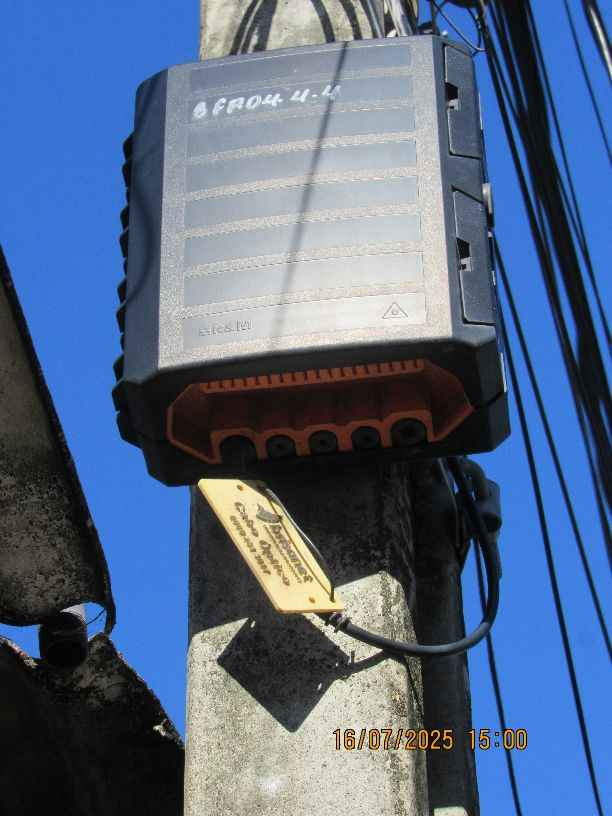caixa_derivacao: (112, 33, 517, 490)
